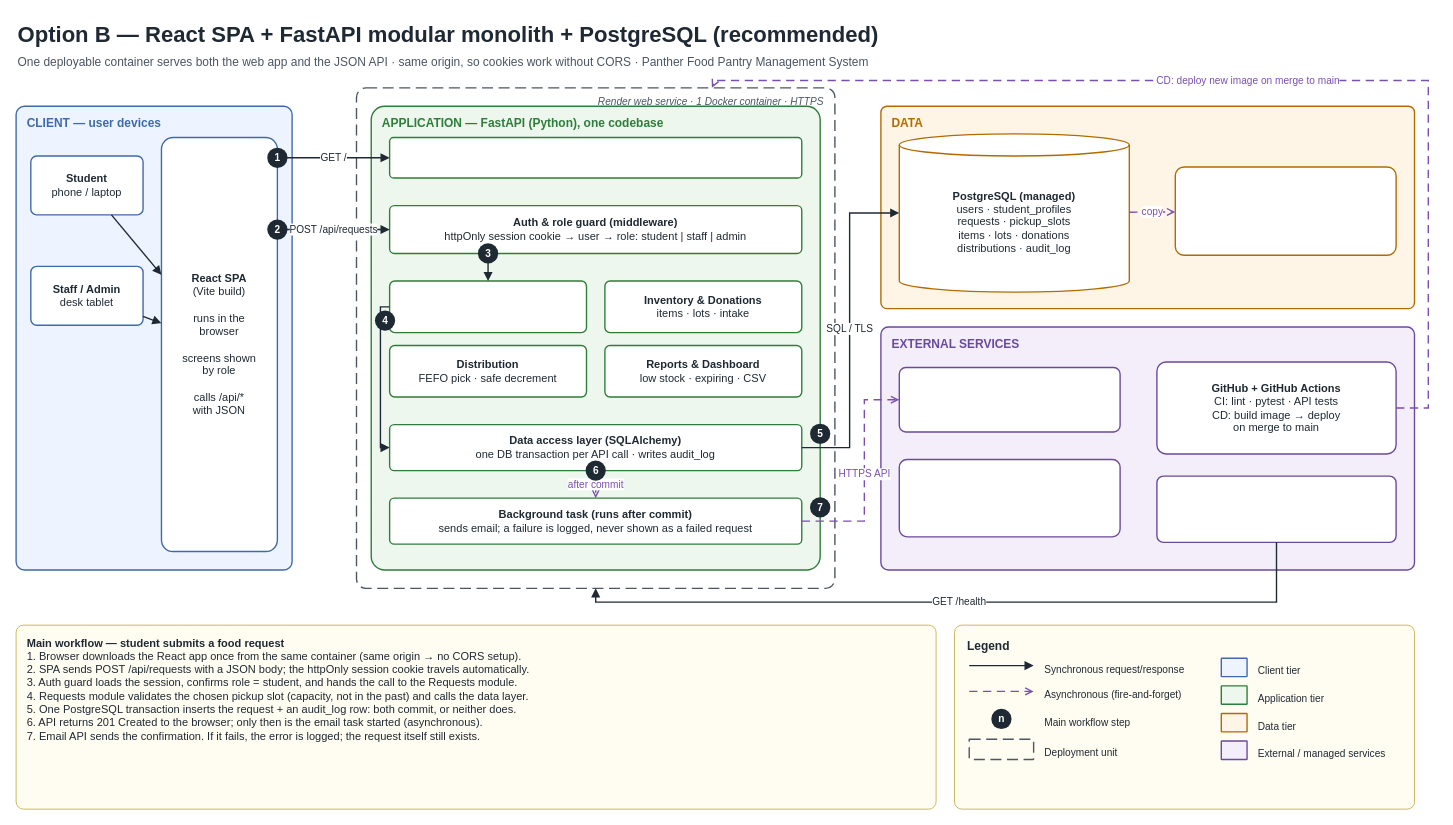
Some shapes in this 1453 by 825 pixel diagram are drawn without their labels. The centre of each missing label's shape, as x and y in pixels:
Backups provider daily snapshot + nightly pg_dump job (GitHub Actions): the point at 1285,211
Render log stream app writes JSON logs to stdout; team reads them in dashboard: the point at 1009,497
Requests & Appointments submit · approve · slots: the point at 488,306
Static file route / returns the built SPA (HTML, JS, CSS): the point at 595,157
Transactional email API confirmations · reminders: the point at 1009,399
Uptime monitor (free tier) GET /health every 5 min emails the team on failure: the point at 1276,509
